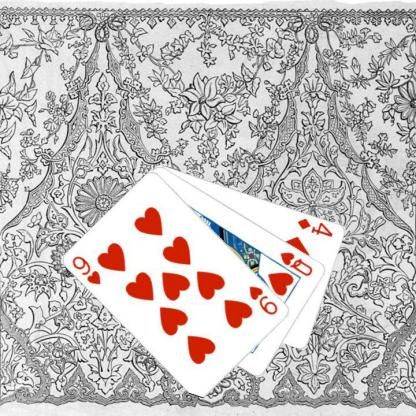4D: (295, 215, 335, 238)
9H: (246, 283, 280, 316), (70, 254, 102, 286)
QH: (278, 249, 314, 277)
